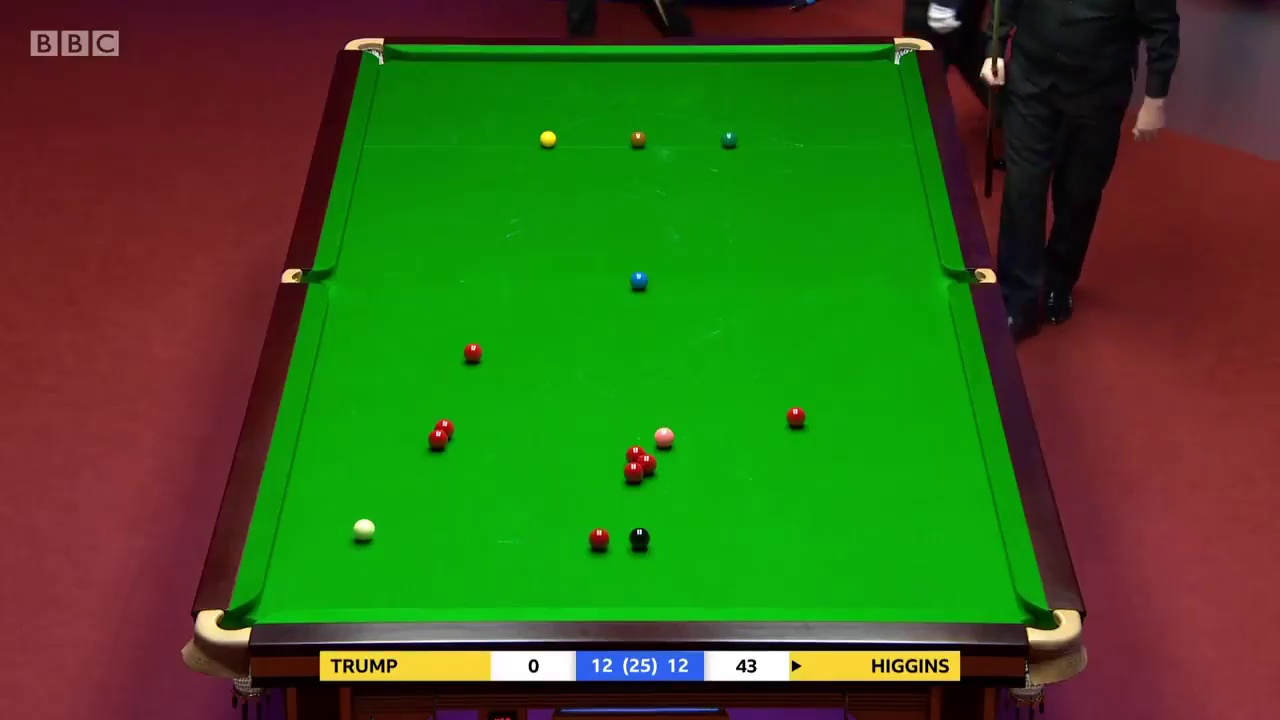ball: (351, 517, 379, 542), (628, 524, 649, 549), (589, 526, 608, 550), (650, 428, 674, 447), (427, 426, 446, 449), (786, 405, 804, 429), (628, 269, 647, 290), (717, 132, 739, 150), (540, 129, 557, 151), (463, 341, 481, 360), (630, 130, 644, 148)
